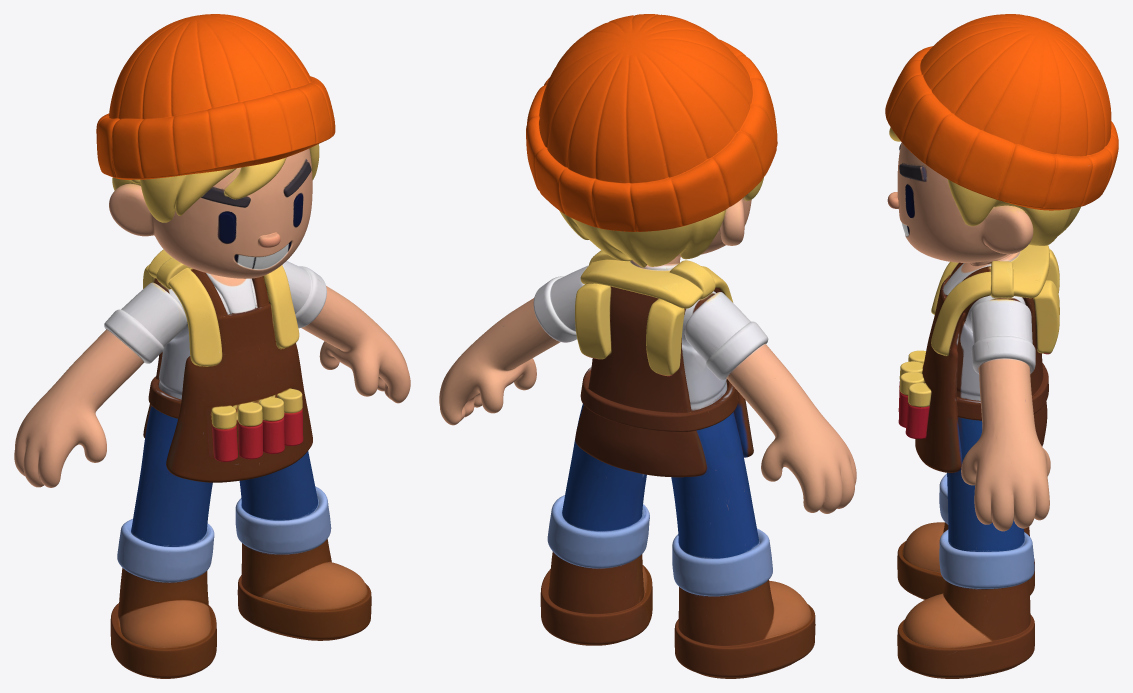
File: fritzi_original_statisch.glb
The picture shows the model from 3 angles, left to right: view 1: azimuth 30°, elevation 25°; view 2: azimuth 150°, elevation 25°; view 3: azimuth 270°, elevation 25°; orthographic projection. The views are drawn at different scales.
Bounding box in the file's own units: 1.27 × 1.9 × 0.6713.
1 material, 1 textured.
